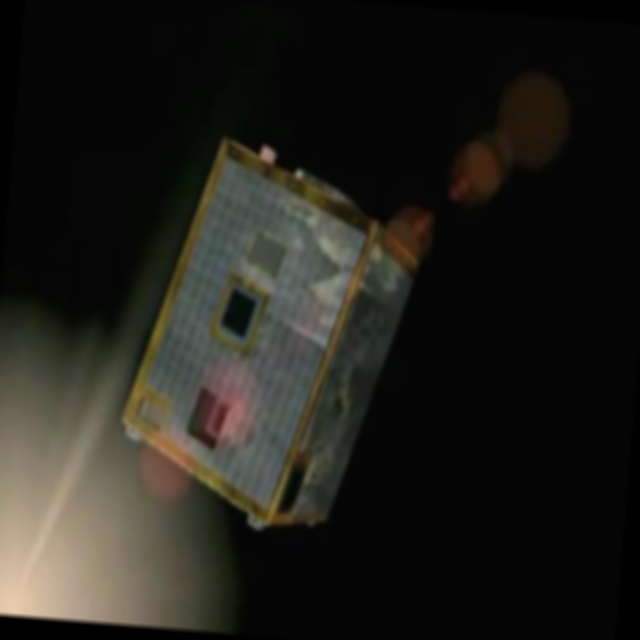satellite: (102, 105, 410, 587)
